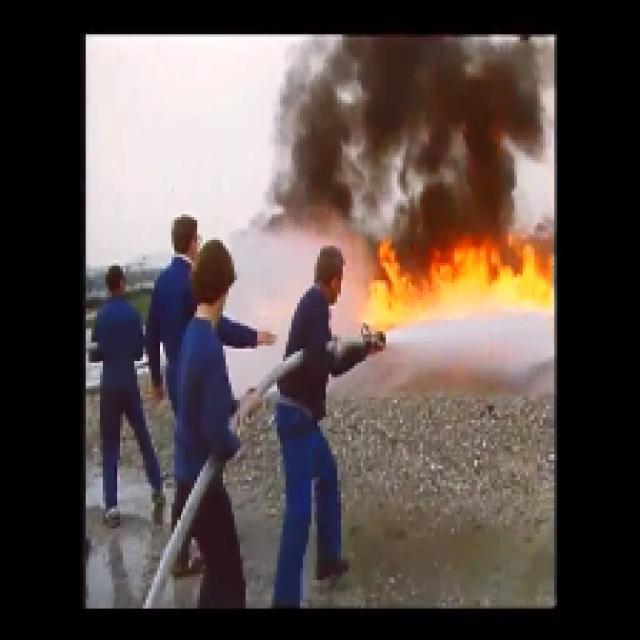fire: (364, 237, 552, 321)
smoke: (330, 34, 521, 227)
